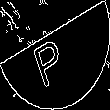P_NW: (35, 24, 75, 86)
